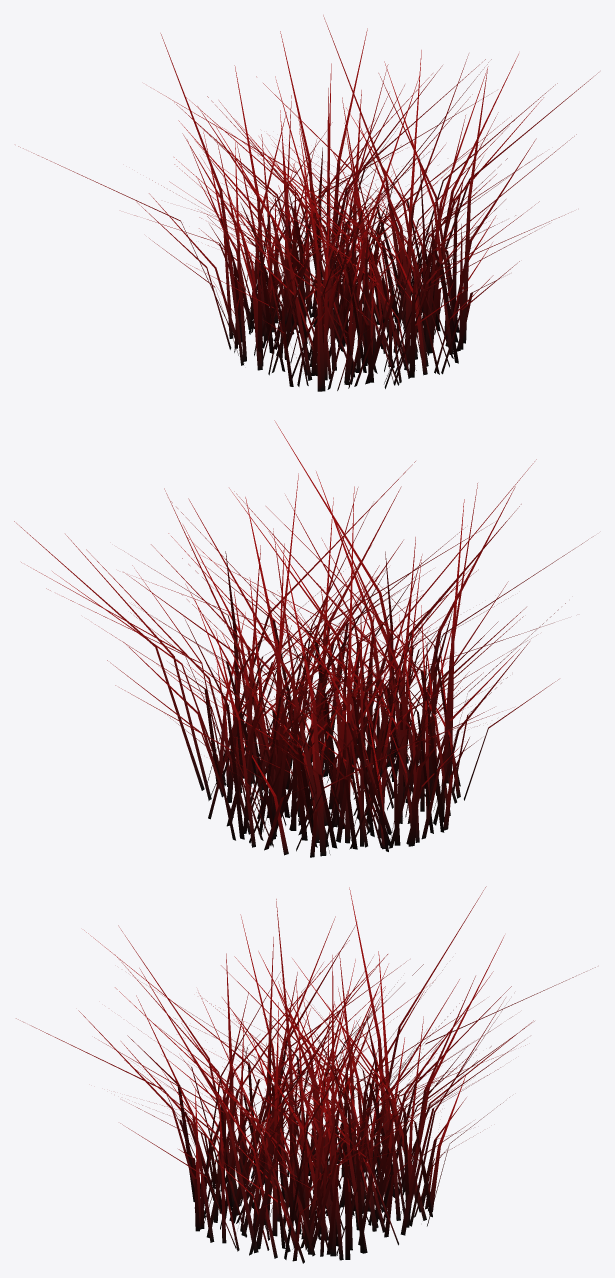
File: frost_fescue_v1.fbx
3 renders of one model, top to bottom at view 1: azimuth 30°, elevation 25°; view 2: azimuth 150°, elevation 25°; view 3: azimuth 270°, elevation 25°, orthographic. The views are drawn at different scales.
Visible parts, largest first — view 1: frost_fescue_v1; view 2: frost_fescue_v1; view 3: frost_fescue_v1.
Part boxes in pixels (<box>): frost_fescue_v1: <box>18,15,598,391</box>; frost_fescue_v1: <box>14,420,593,857</box>; frost_fescue_v1: <box>16,886,595,1263</box>.
Bounding box in the file's own units: 49.75 × 22.85 × 47.77.
